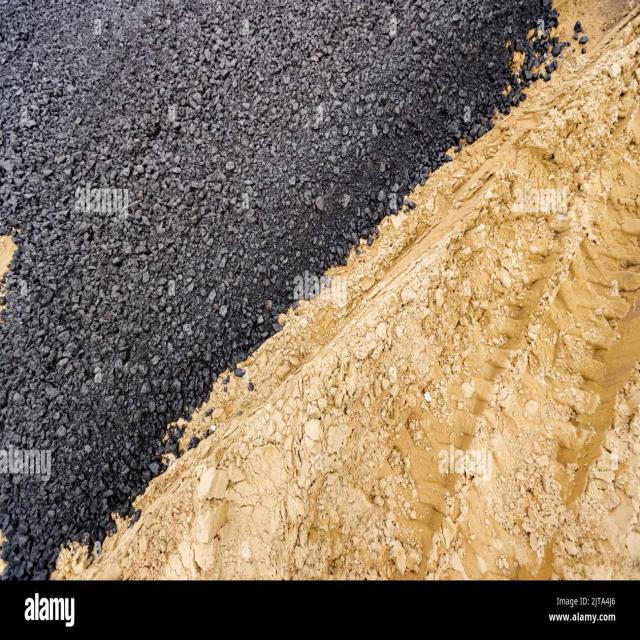asphalt: (0, 0, 559, 579)
white-sand: (58, 33, 640, 579)
